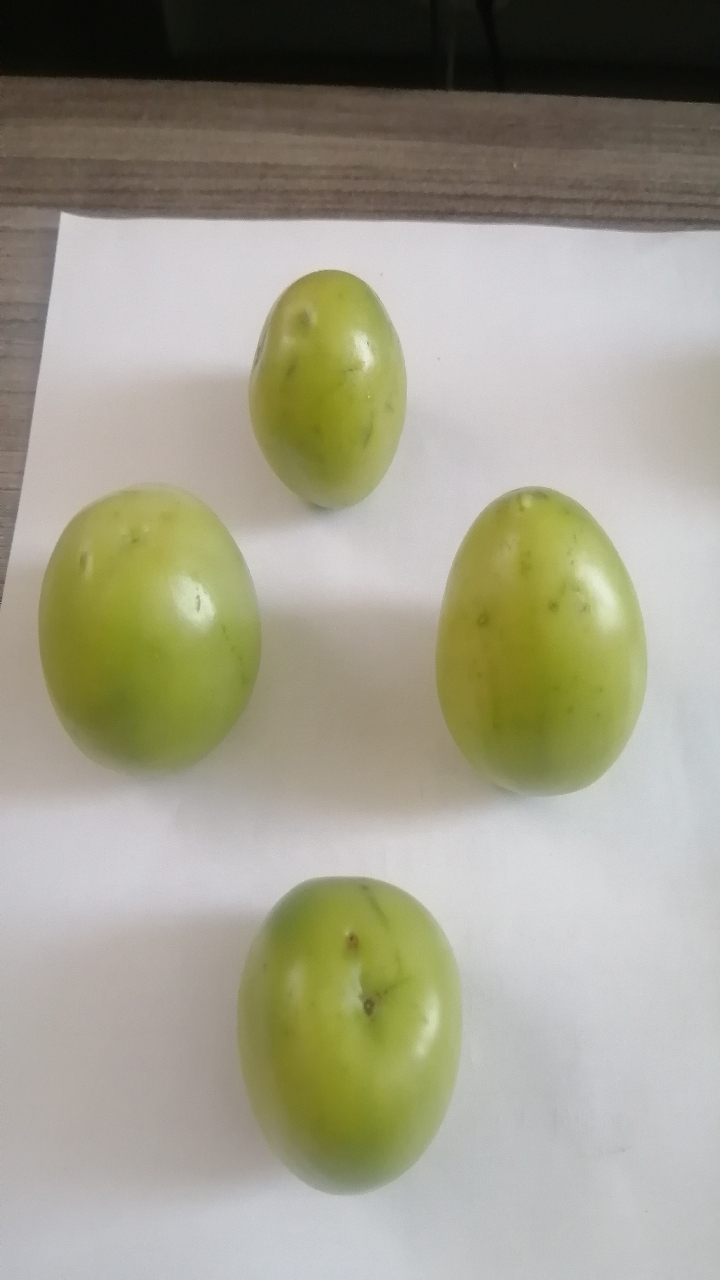tomateVerde: (411, 448, 668, 835), (214, 854, 480, 1222), (31, 469, 281, 802), (223, 246, 435, 512)
